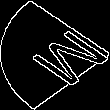M_SE: (7, 20, 103, 90)
